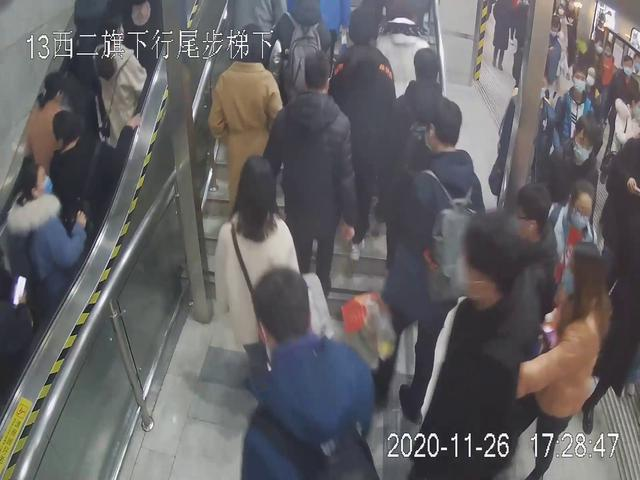person: (372, 89, 481, 420), (413, 203, 535, 480), (221, 271, 380, 480), (522, 241, 619, 480), (212, 155, 308, 384), (264, 48, 353, 295), (207, 15, 284, 220), (4, 165, 84, 328), (86, 17, 152, 152), (551, 58, 598, 176)
